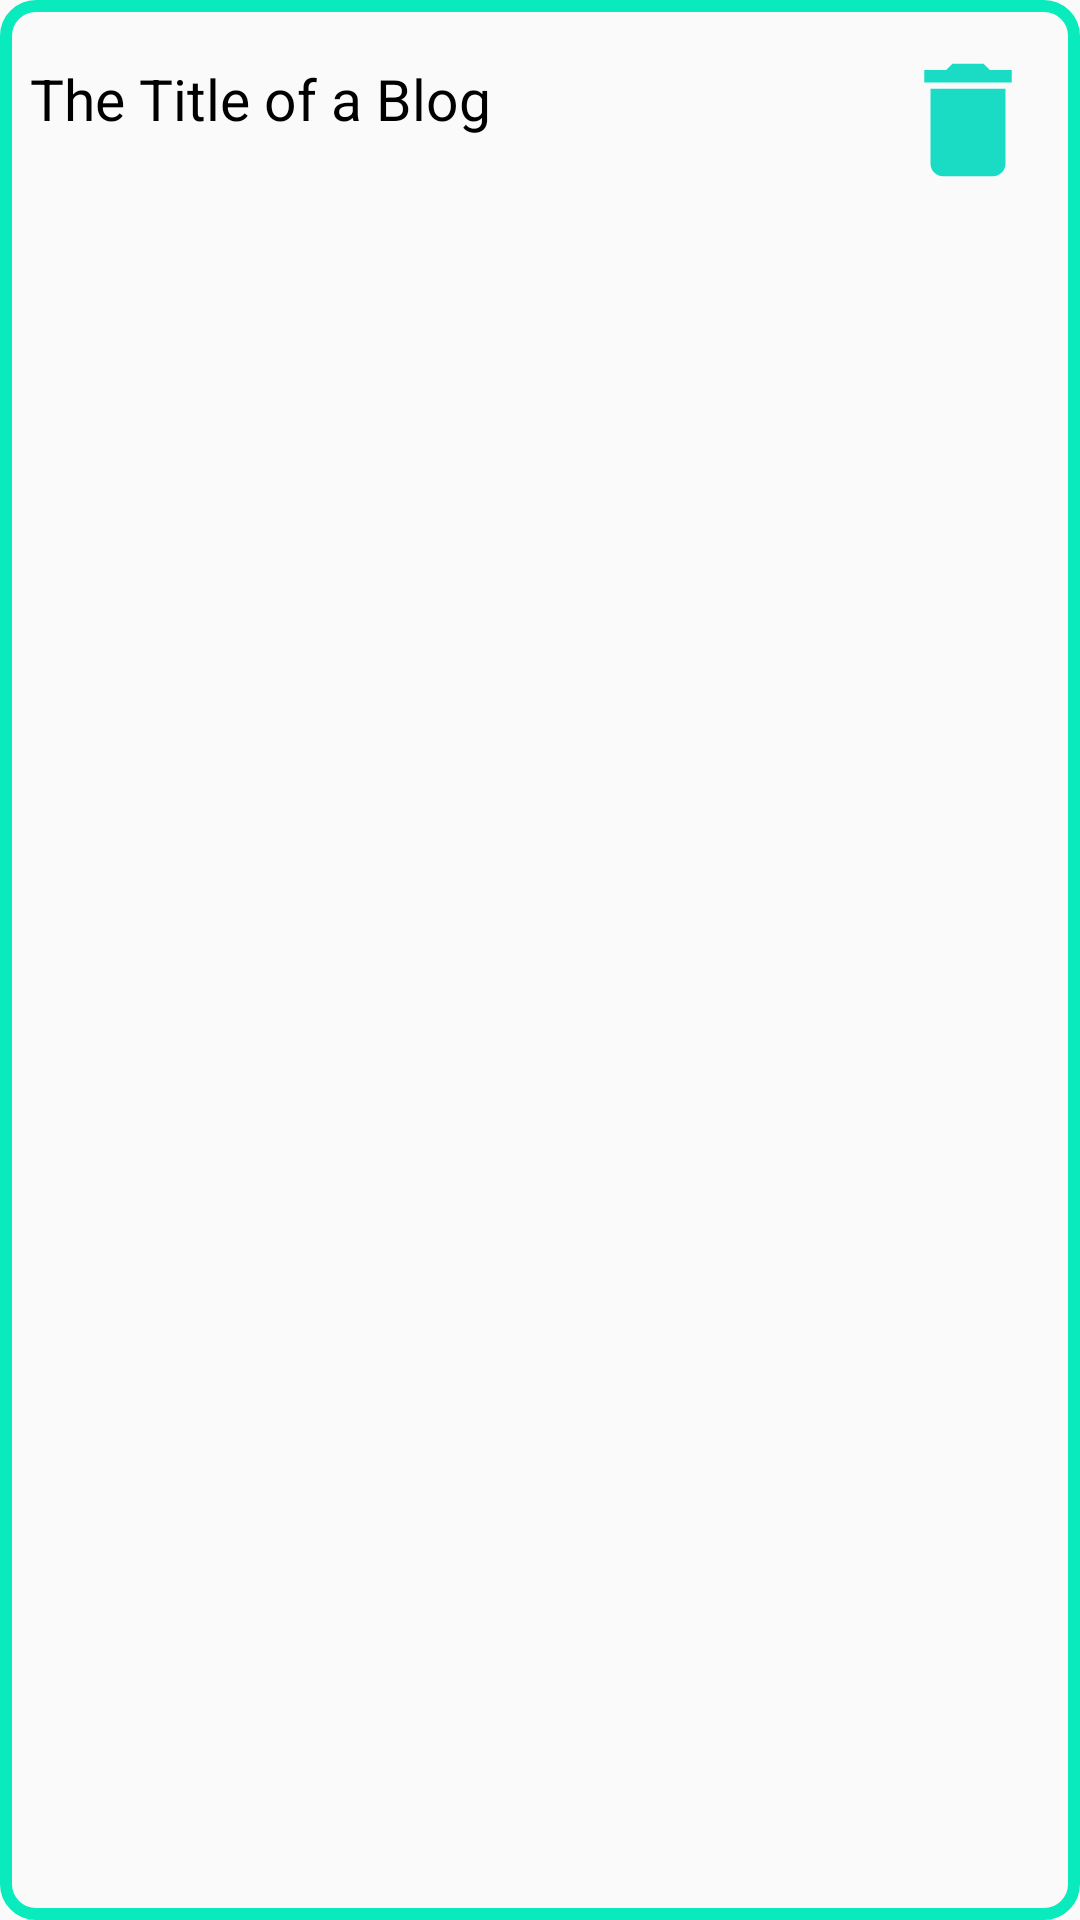

Where icons sit on this 1080px x 1920px app screen, as bbox=[x1, y1, x2, y2]:
delete: bbox=[924, 63, 1012, 177]
